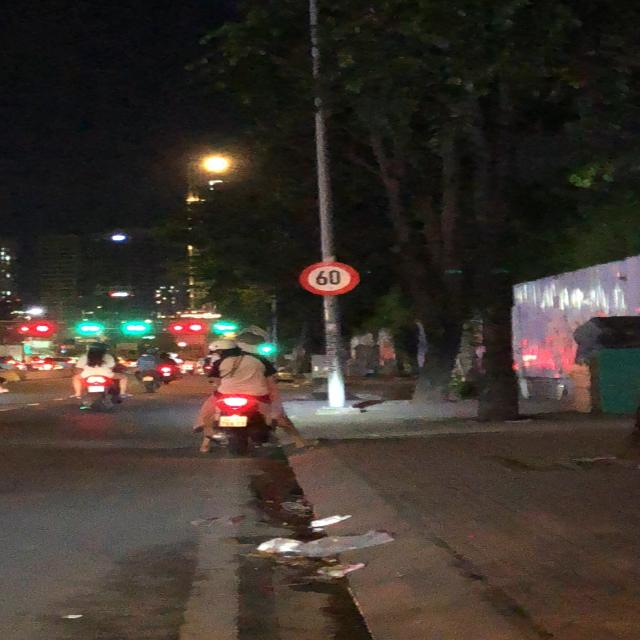Bien bao toc do toi da cho phep: (295, 258, 362, 296)
